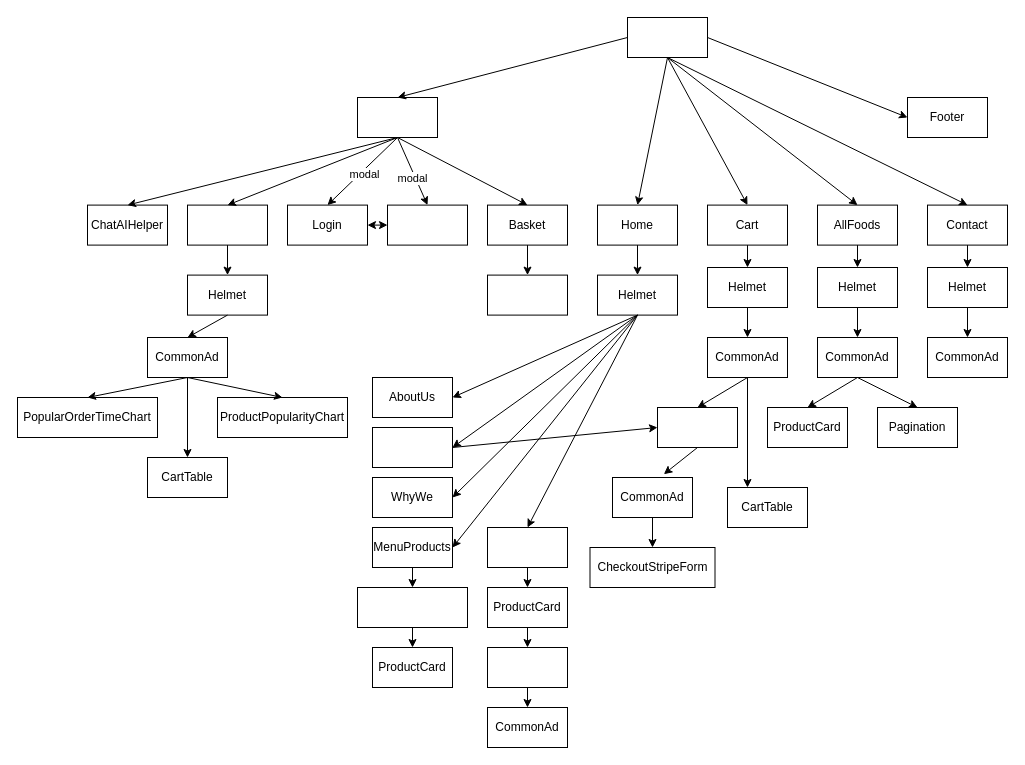
Some shapes in this 1025 by 765 pixel diagram are drawn without their labels. Each missing label, with the centre of its shape:
"App" belongs at point 667,37.
"CartItem" belongs at point 527,294.
"Checkout" belongs at point 697,427.
"FoodDetails" belongs at point 527,667.
"GaleryProductCards" belongs at point 412,607.
"Header" belongs at point 397,117.
"HotFood" belongs at point 527,547.
"Profile" belongs at point 227,224.
"Register" belongs at point 427,224.
"Slider" belongs at point 412,447.
